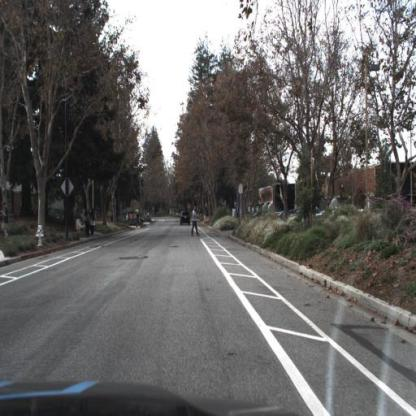biker: (136, 209, 143, 232)
car: (180, 209, 194, 229)
pedestrian: (74, 205, 84, 242), (83, 204, 92, 240), (190, 203, 199, 239), (76, 207, 85, 239), (89, 206, 97, 238), (90, 207, 96, 239), (84, 207, 89, 240), (235, 205, 241, 222)
